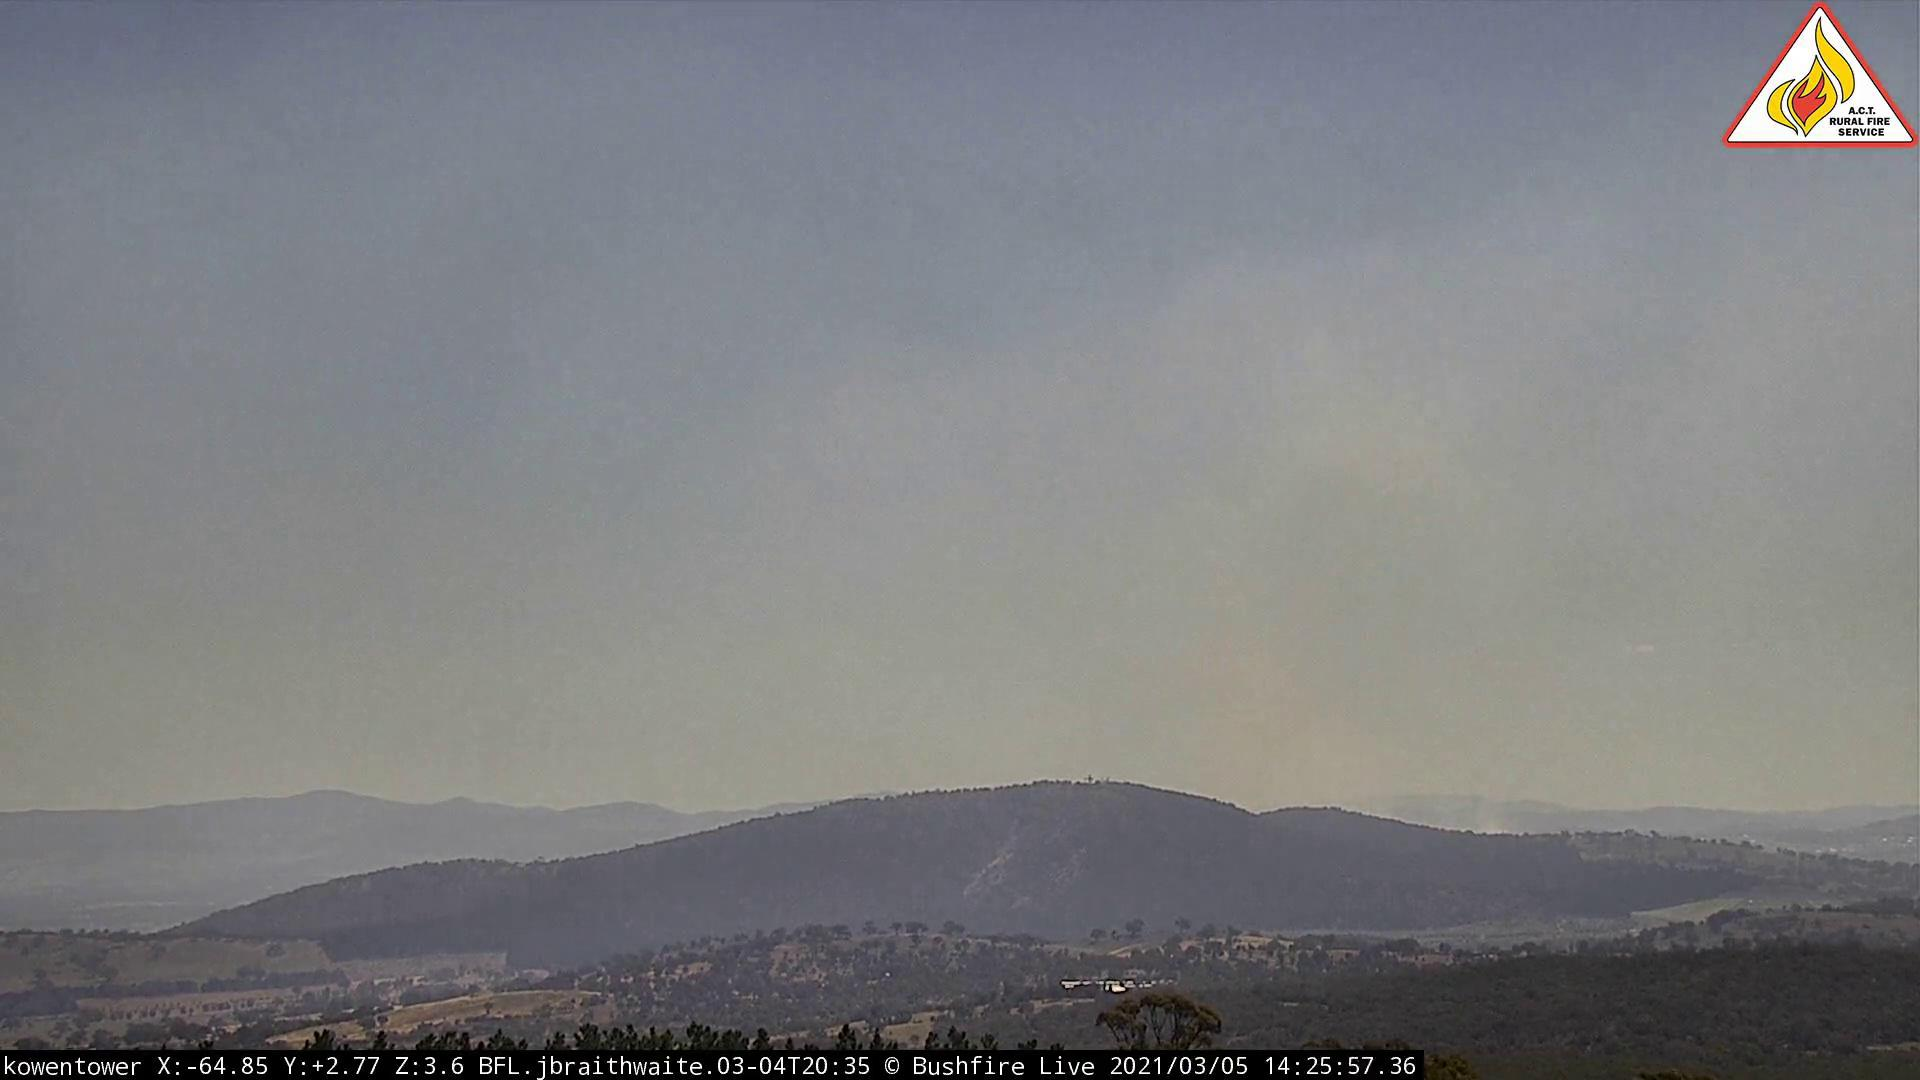Smoke: (1118, 377, 1528, 844)
